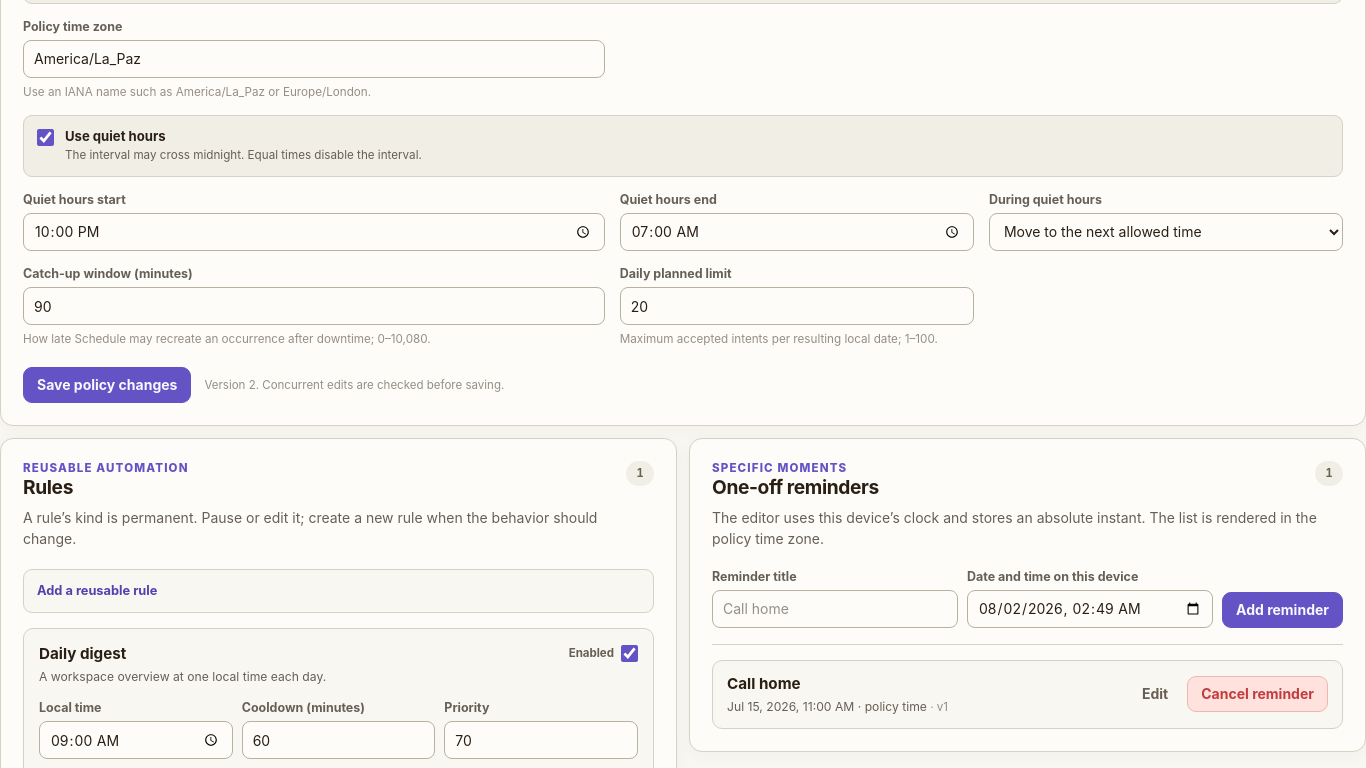
Test case: RemindersView › disables delivery retry while another reminder mutation is in progress
(page scrolled)
Step 1. Click the button "Save policy changes" → x=107, y=385, box [23,367,191,403]
(page scrolled)
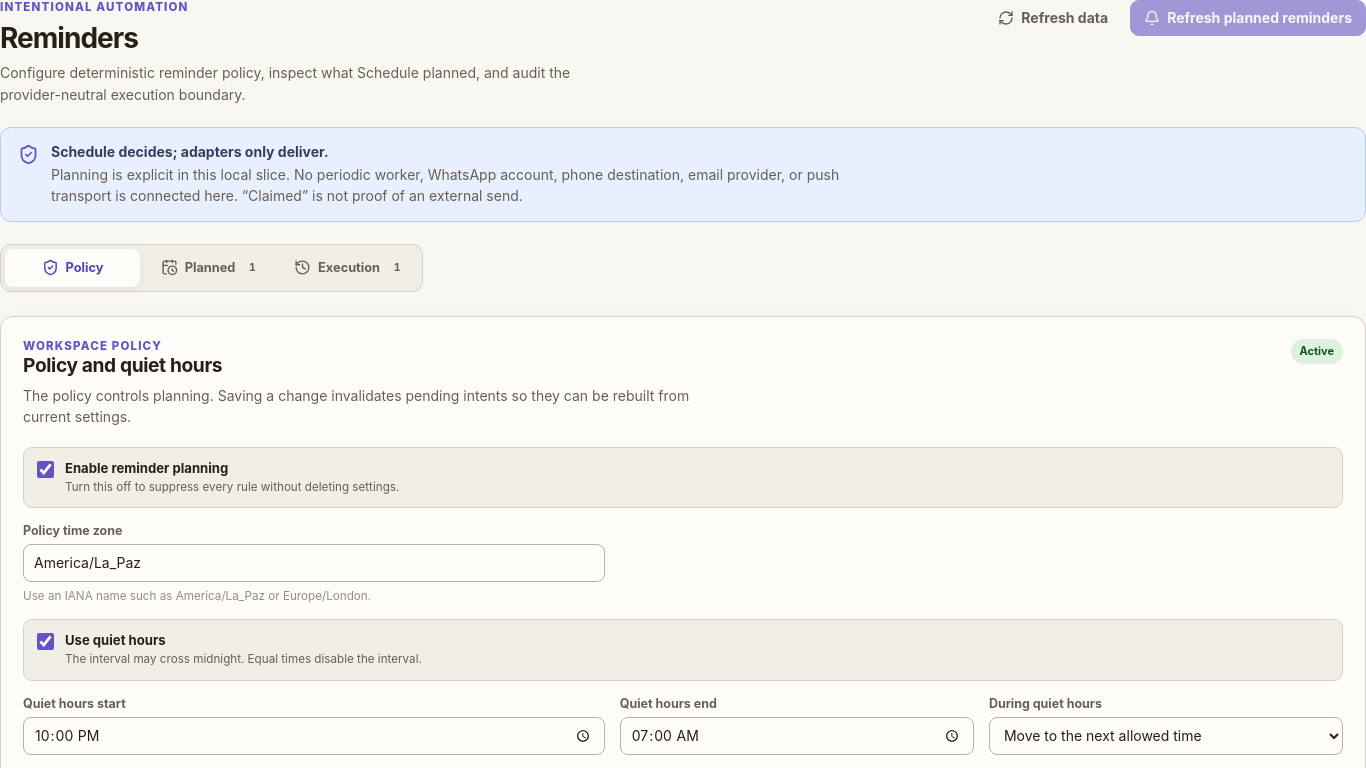
Step 2. Click the tab "Execution 1" → x=351, y=268, box [283,249,418,287]
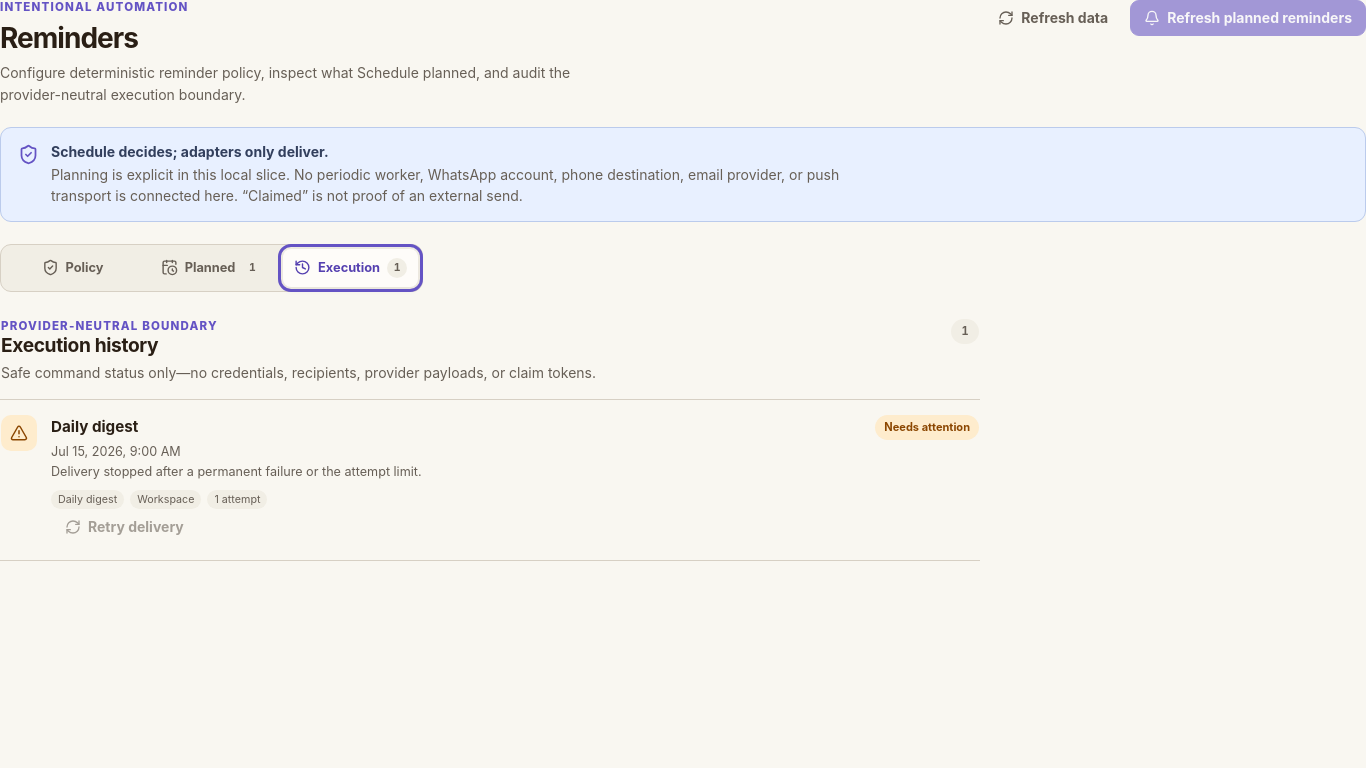
Check: the button with aria-label "Retry delivery for Daily digest (delivery-digest)" is disabled, box [51,509,198,545]
